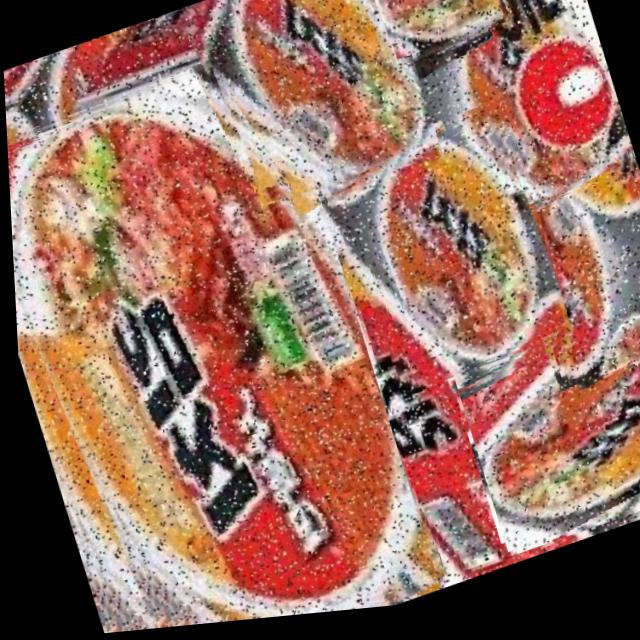Miscellaneous: (3, 35, 433, 640), (314, 104, 572, 410), (372, 0, 636, 250), (183, 0, 442, 233), (443, 308, 640, 570), (492, 136, 640, 404), (346, 0, 508, 75)
